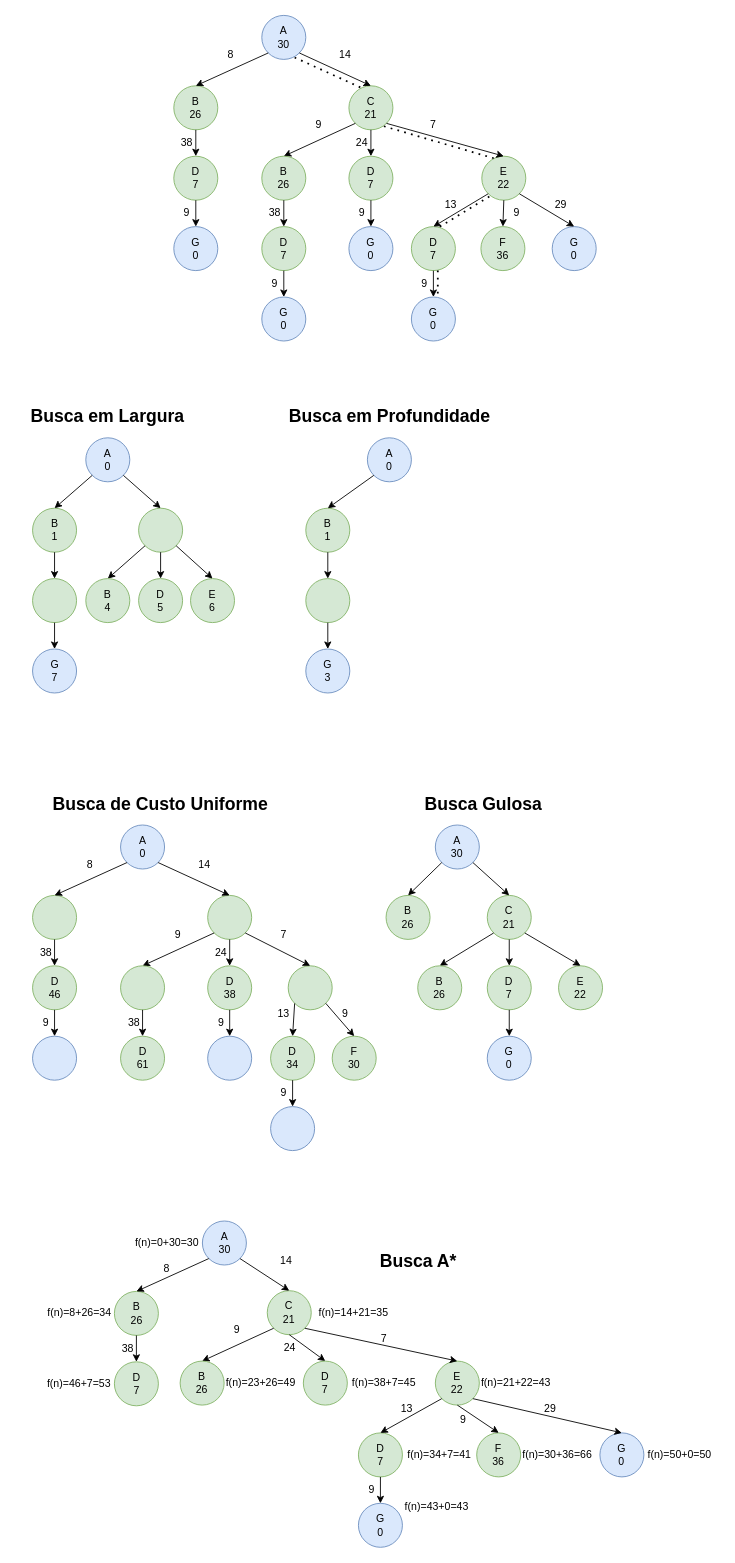
Image size: 735x1563. Some labels were removed from this diagram. Here are the shapes that lost their labels. From the top down, the centre of each, then its label:
At (160,529): "C 2".
At (54,600): "D 3".
At (327,600): "D 2".
At (54,917): "B 8".
At (229,917): "C 14".
At (142,987): "B 23".
At (309,987): "E 21".
At (54,1057): "G 55".
At (229,1057): "G 47".
At (292,1128): "G 43".
